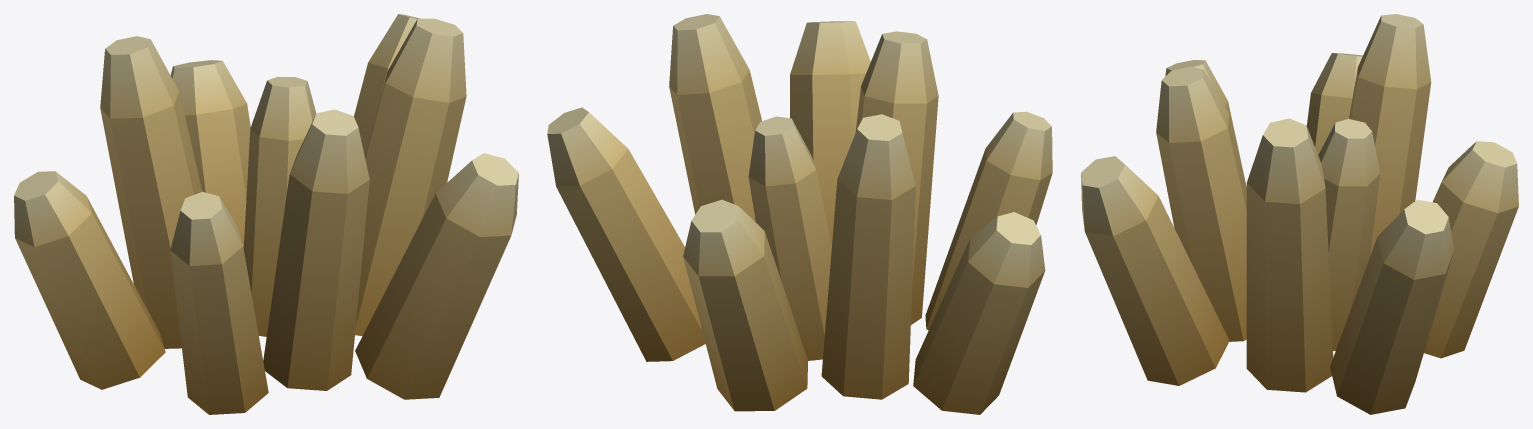
Rendered from coral-finger.glb.
3 views of the same model, side by side, from view 1: azimuth 30°, elevation 25°; view 2: azimuth 150°, elevation 25°; view 3: azimuth 270°, elevation 25° (orthographic). The views are drawn at different scales.
Visible parts, largest first — view 1: coral-finger_mesh; view 2: coral-finger_mesh; view 3: coral-finger_mesh.
Part boxes in pixels (bbox=[...]): coral-finger_mesh: bbox=[14, 14, 518, 414]; coral-finger_mesh: bbox=[547, 14, 1052, 414]; coral-finger_mesh: bbox=[1081, 14, 1518, 414].
Bounding box in the file's own units: 2.96 × 1.87 × 2.59.
